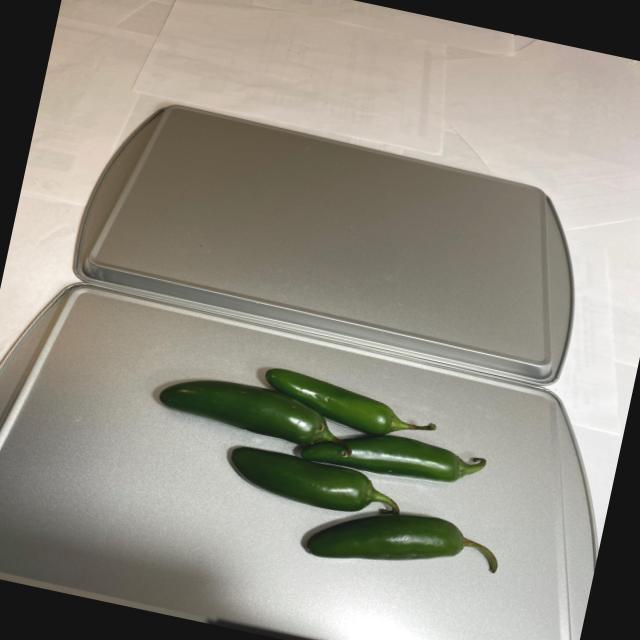chilli: (132, 339, 536, 592)
